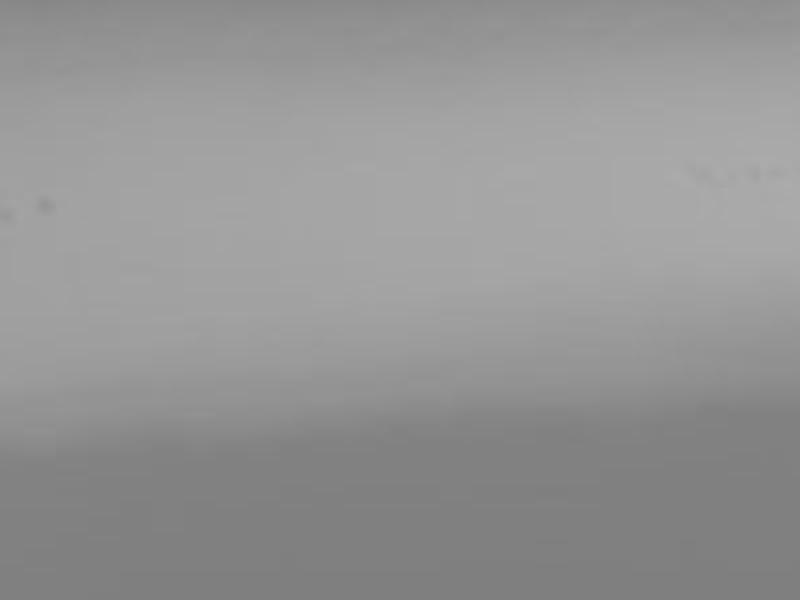defect: (37, 193, 59, 218)
